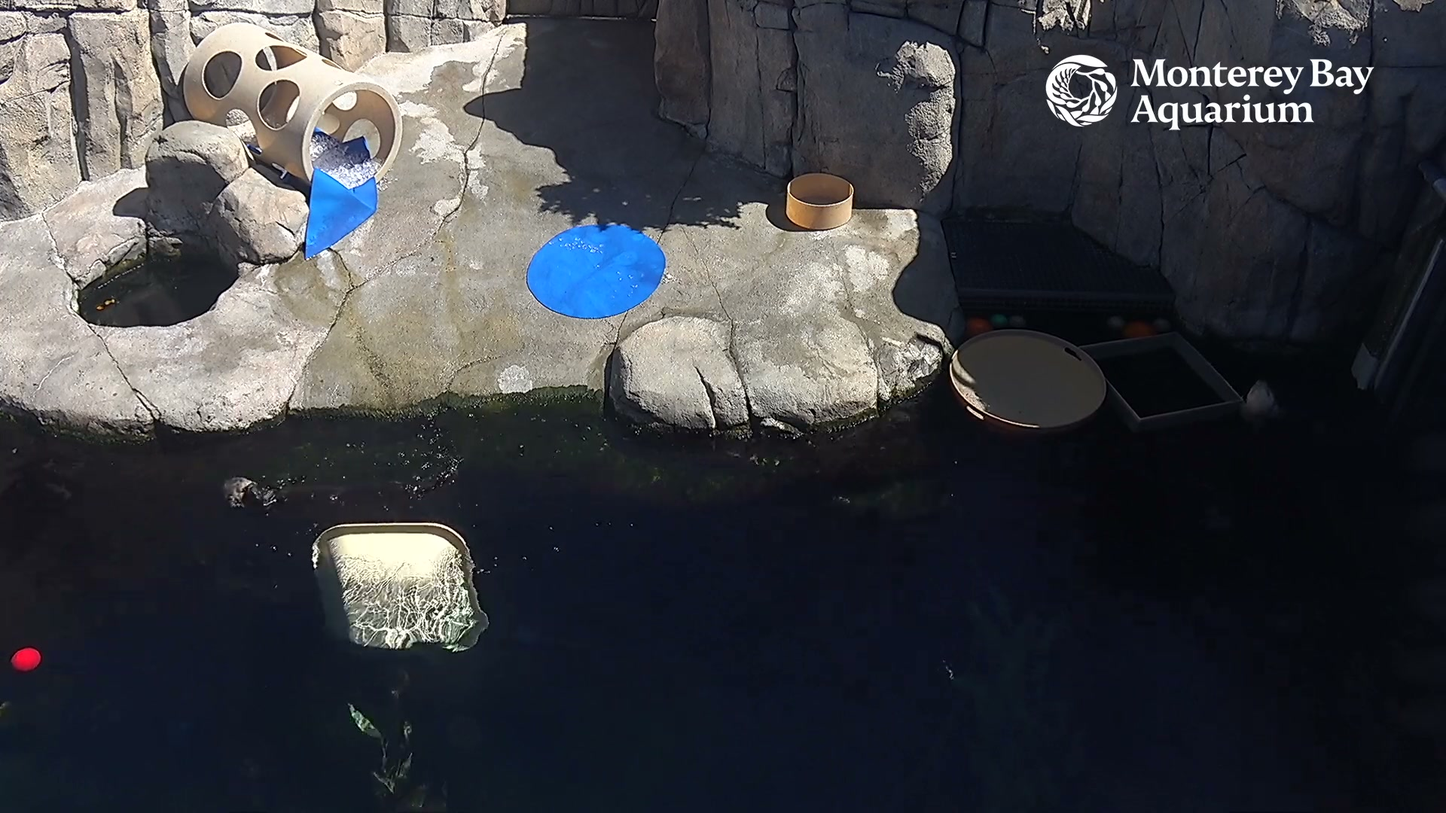Southern Sea Otter: (188, 453, 488, 538), (1227, 336, 1294, 501)
